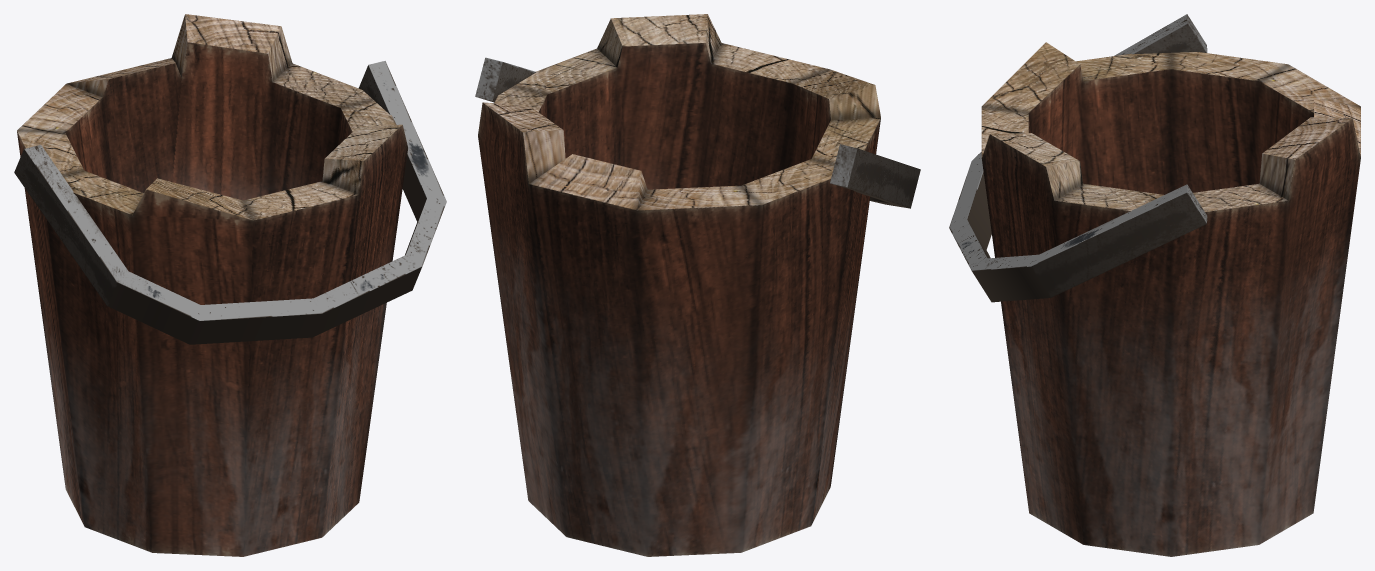
The model's file is wooden_bucket.FBX.
3 renders of one model, left to right at view 1: azimuth 30°, elevation 25°; view 2: azimuth 150°, elevation 25°; view 3: azimuth 270°, elevation 25°, orthographic. The views are drawn at different scales.
Parts seen in each view (by area): view 1: Cone001, Circle001; view 2: Cone001, Circle001; view 3: Cone001, Circle001.
Part boxes in pixels (x1=…): Cone001: x1=17, y1=14, x2=407, y2=556; Circle001: x1=14, y1=61, x2=446, y2=344; Cone001: x1=478, y1=14, x2=880, y2=556; Circle001: x1=475, y1=57, x2=920, y2=208; Cone001: x1=981, y1=42, x2=1360, y2=556; Circle001: x1=949, y1=14, x2=1207, y2=302.
Bounding box in the file's own units: 0.4242 × 0.45 × 0.4132.
